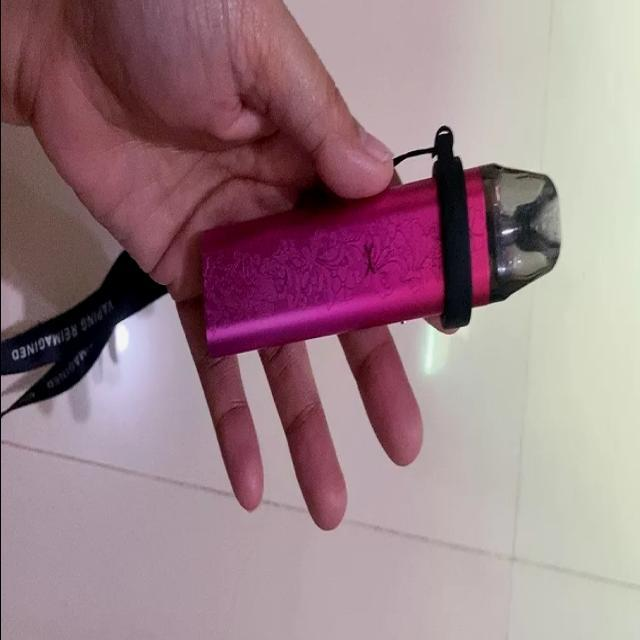Hazard: (200, 164, 558, 361)
